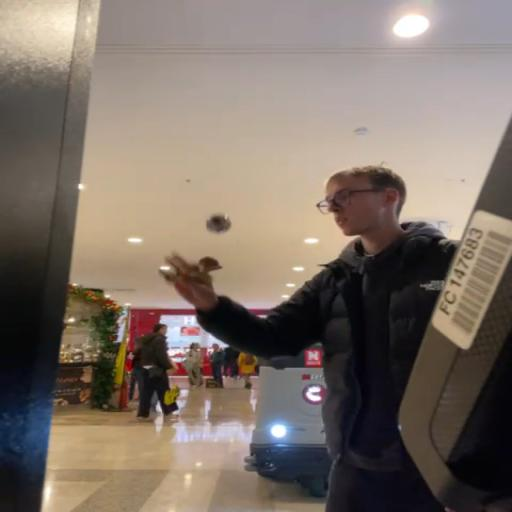kendama_ball: (206, 213, 232, 234)
